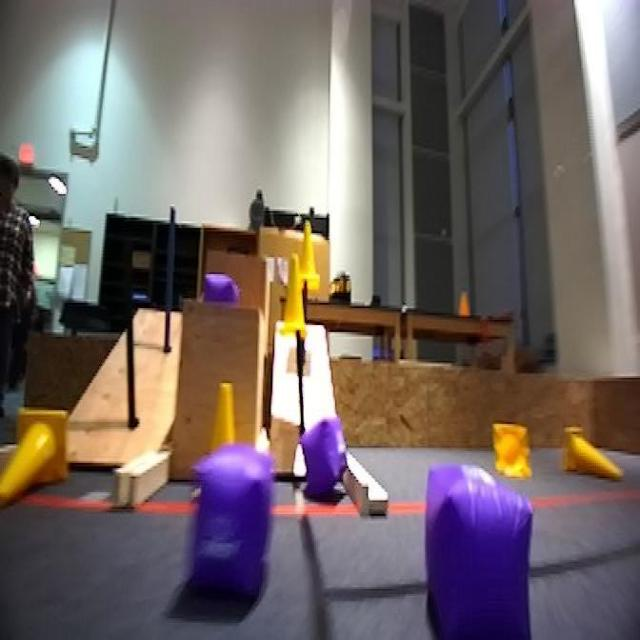frc_cone: (0, 405, 70, 514), (201, 384, 244, 488), (562, 427, 619, 480), (485, 421, 532, 474), (280, 274, 313, 347), (297, 223, 320, 294)
frc_cube: (423, 468, 532, 640), (179, 439, 273, 603), (303, 410, 353, 502), (202, 276, 237, 310)
